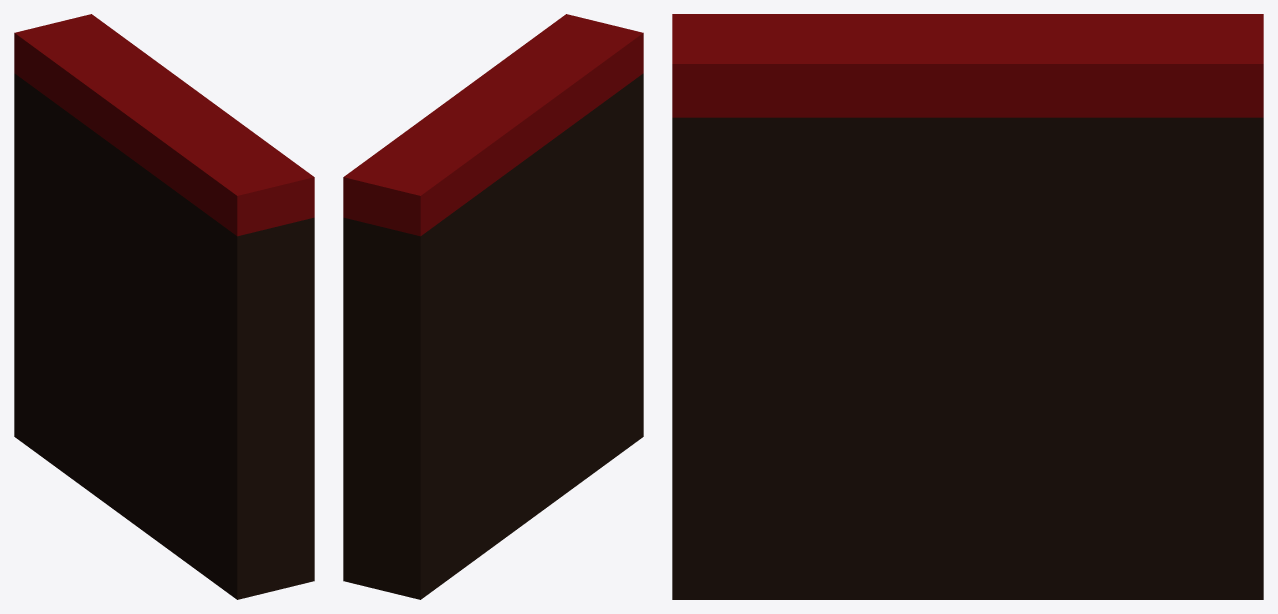
Rendered from wall.fbx.
3 views of the same model, side by side, from view 1: azimuth 30°, elevation 25°; view 2: azimuth 150°, elevation 25°; view 3: azimuth 270°, elevation 25° (orthographic). The views are drawn at different scales.
Visible parts, largest first — view 1: Cube; view 2: Cube; view 3: Cube.
Part boxes in pixels (x1,y1,x2,y2): Cube: (14, 14, 314, 599); Cube: (343, 14, 643, 599); Cube: (672, 14, 1263, 599).
Size of the model in its own units: 40 by 200 by 200.
